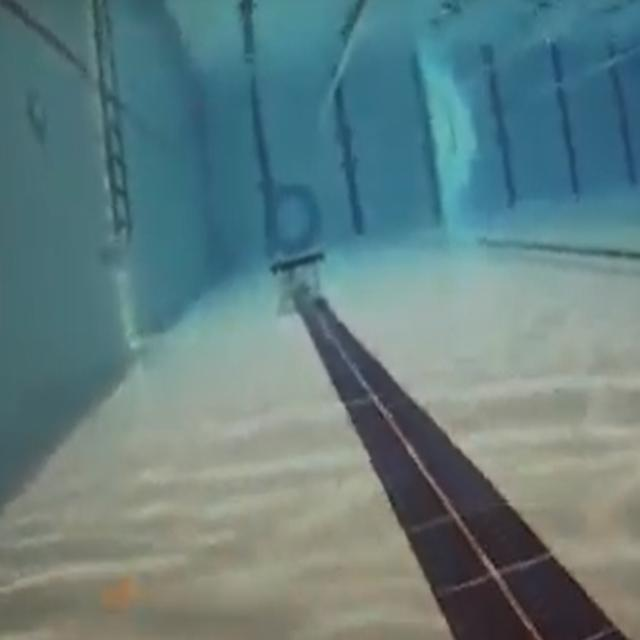Circle: (264, 180, 320, 254)
